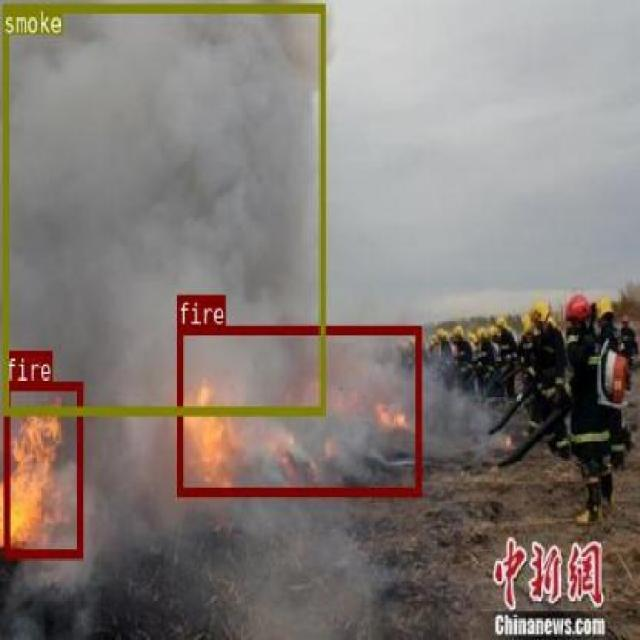Fire: (177, 324, 420, 496), (2, 382, 82, 556)
Smoke: (2, 3, 324, 414)
